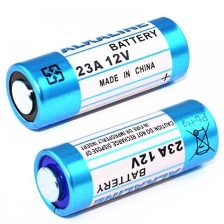battery: (30, 94, 222, 220), (3, 14, 193, 133)
